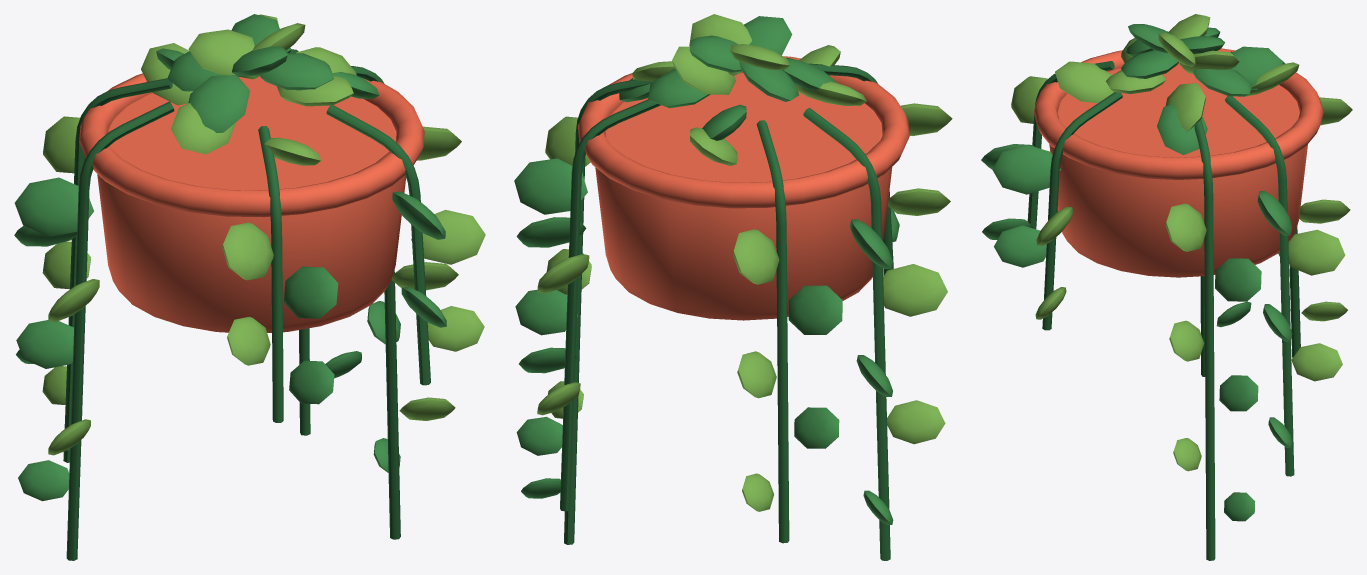
File: sill_pothos.glb
The picture shows the model from 3 angles, left to right: view 1: azimuth 30°, elevation 25°; view 2: azimuth 150°, elevation 25°; view 3: azimuth 270°, elevation 25°; orthographic projection. The views are drawn at different scales.
Parts seen in each view (by area): view 1: SillPothosBody; view 2: SillPothosBody; view 3: SillPothosBody.
Boxes of the visible parts, x1,y1,x2,y2 form: SillPothosBody: (14,14,485,560); SillPothosBody: (514,14,952,560); SillPothosBody: (981,14,1352,560).
Bounding box in the file's own units: 0.3927 × 0.5103 × 0.3661.
